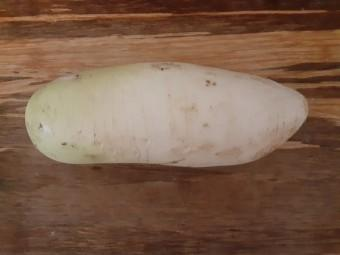radish: (12, 24, 167, 68)
